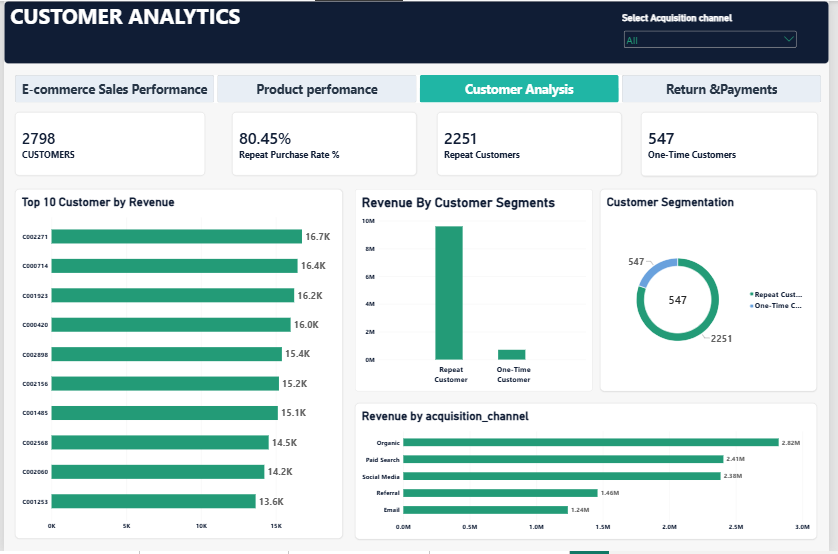

This screenshot's page, from the dashboard's own definition file:
{"tool":"powerbi","page":{"name":"Customer Analysis","canvas":[2100,1400],"ordinal":2},"visuals":[{"type":"textbox","box":[0,0,2100,159.6],"z":0},{"type":"cardVisual","fields":{"Data":["customers.CUSTOMERS"]},"box":[28,282.8,484.4,162.4],"z":1000},{"type":"cardVisual","fields":{"Data":["customers.Repeat Customers"]},"box":[1103.2,282.8,470.4,162.4],"z":2000},{"type":"cardVisual","fields":{"Data":["customers.One-Time Customers"]},"box":[1621.2,282.8,450,163.8],"z":3000},{"type":"cardVisual","fields":{"Data":["customers.Repeat Purchase Rate %"]},"box":[579.6,282.8,470.4,162.4],"z":4000},{"type":"donutChart","title":"Customer Segmentation","fields":{"Category":["Customer Segment Labels.Segment"],"Y":["Customer Segment Labels.Customers by Segment"]},"box":[1517.6,478.8,551.6,515.2],"z":5000},{"type":"clusteredColumnChart","title":"Revenue By Customer Segments","fields":{"Category":["Customer Segments.Segment"],"Y":["customers.Customer Revenue"]},"box":[893.2,478.8,604.8,515.2],"z":6000},{"type":"clusteredBarChart","title":"Top 10 Customer by Revenue","fields":{"Category":["customers.customer_id"],"Y":["order_items.Total_Revenue"]},"box":[28,478.8,834.4,890.4],"z":7000},{"type":"clusteredBarChart","title":"Revenue by acquisition_channel","fields":{"Category":["customers.acquisition_channel"],"Y":["order_items.Total_Revenue"]},"box":[893.2,1022,1176,347.2],"z":8000},{"type":"slicer","title":"Select Acquisition channel","fields":{"Values":["customers.acquisition_channel"]},"box":[1573.6,28,448.5,90.7],"z":9000},{"type":"pageNavigator","box":[28,187.6,2052,70.6],"z":9001}]}

Visuals, with their boxes in screenshot pixels (x1, y1, x2, y2), scaled from the page's 2100x1400 canvas onto the 838x554 screenshot:
textbox: bbox=(0, 0, 837, 63)
cardVisual - customers.CUSTOMERS: bbox=(11, 112, 204, 176)
cardVisual - customers.Repeat Customers: bbox=(440, 112, 628, 176)
cardVisual - customers.One-Time Customers: bbox=(647, 112, 827, 177)
cardVisual - customers.Repeat Purchase Rate %: bbox=(231, 112, 419, 176)
"Customer Segmentation" donutChart: bbox=(606, 189, 826, 393)
"Revenue By Customer Segments" clusteredColumnChart: bbox=(356, 189, 598, 393)
"Top 10 Customer by Revenue" clusteredBarChart: bbox=(11, 189, 344, 542)
"Revenue by acquisition_channel" clusteredBarChart: bbox=(356, 404, 826, 542)
"Select Acquisition channel" slicer: bbox=(628, 11, 807, 47)
pageNavigator: bbox=(11, 74, 830, 102)
